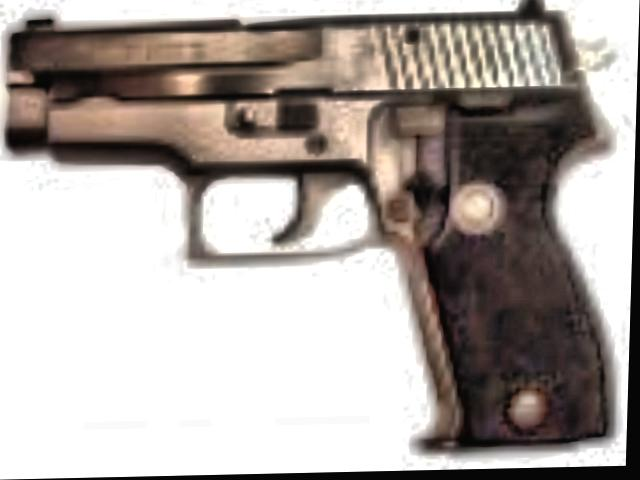pistol: (0, 0, 620, 460)
